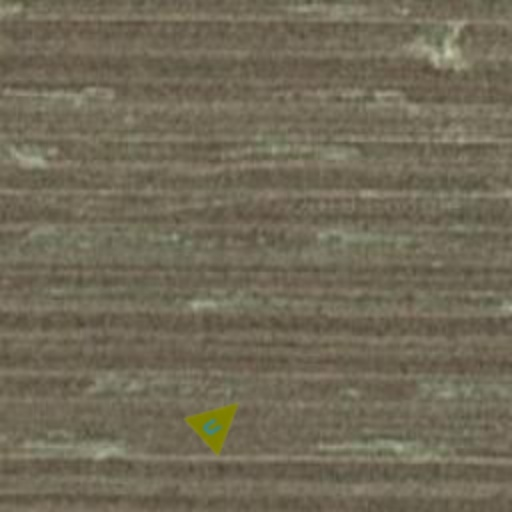triangle: (182, 382, 258, 458)
